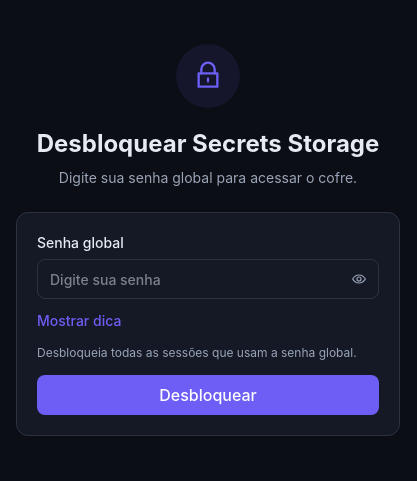
Test: UnlockApp › rejeita senha incorreta e mantém o app bloqueado
Step 1. Type "errada" into the password field with id "global-password" → (208, 279), box 37,259 -> 379,299
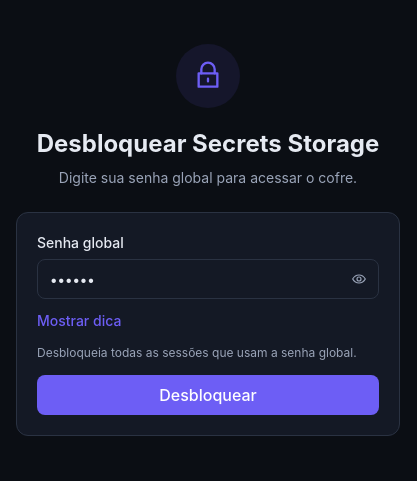
Step 2. Submit the form, box 37,233 -> 379,415
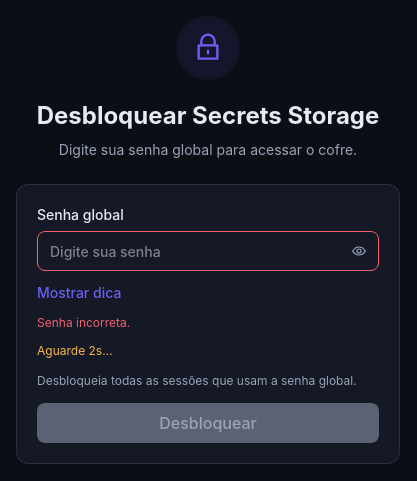
Now the text "Senha incorreta." is shown, box 37,315 -> 130,330
